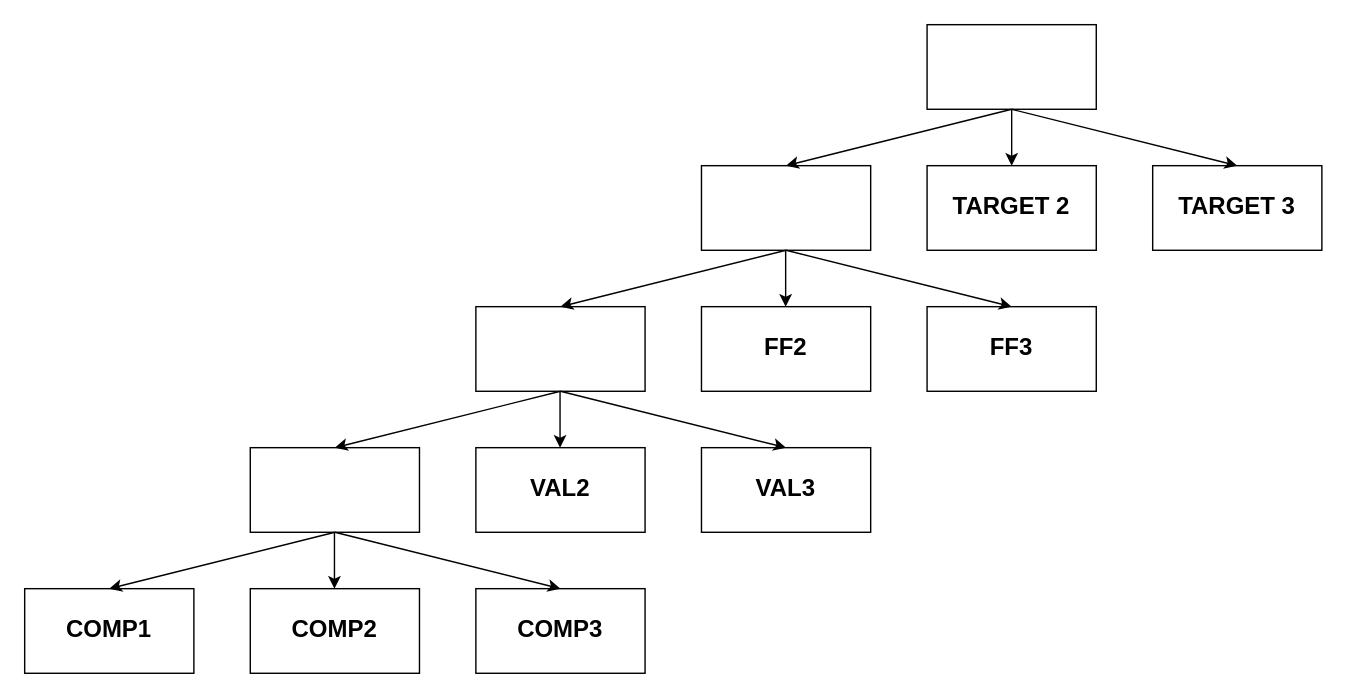
Some shapes in this 1347 by 698 pixel diagram are drawn without their labels. The shapes that lost their labels are listed below. From the top down, each one's centre as x and y in pixels, then its label:
At (1011,66): "USER 1".
At (785,207): "TARGET 1".
At (559,348): "FF1".
At (334,489): "VAL1".
